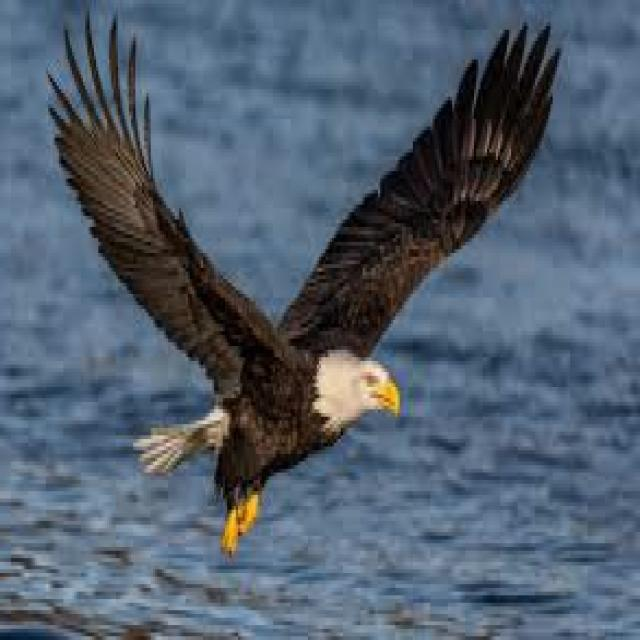eagle: (50, 15, 559, 551)
